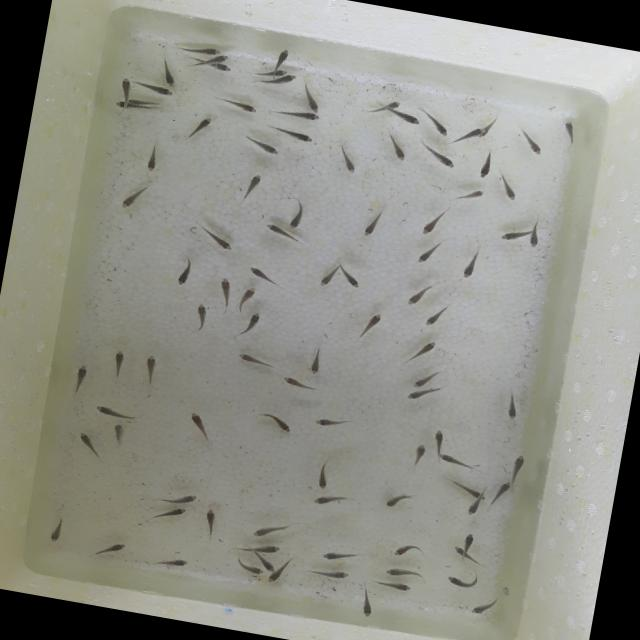fingerling: (180, 409, 220, 448), (415, 138, 460, 170), (376, 129, 414, 165), (315, 542, 367, 568), (262, 122, 318, 146), (114, 178, 150, 215), (91, 403, 150, 425), (402, 334, 438, 370), (89, 533, 132, 563), (456, 244, 488, 284), (195, 222, 237, 252), (417, 105, 455, 138), (233, 167, 266, 205), (144, 499, 186, 528), (170, 251, 200, 291), (308, 488, 358, 512), (238, 132, 284, 158), (74, 428, 109, 462), (418, 207, 454, 240), (251, 516, 293, 544), (354, 306, 384, 344), (304, 562, 352, 585), (382, 562, 432, 584), (232, 349, 279, 372), (413, 236, 445, 269), (402, 278, 435, 310), (438, 475, 482, 499), (332, 143, 362, 178), (436, 452, 483, 474), (138, 347, 162, 390), (443, 565, 481, 592), (514, 126, 546, 158), (274, 104, 325, 124), (154, 486, 200, 508), (148, 550, 194, 572), (253, 410, 295, 434), (45, 509, 72, 546), (66, 360, 92, 398), (381, 485, 416, 513), (486, 478, 513, 514), (449, 182, 486, 208), (498, 388, 524, 425), (196, 504, 222, 541), (494, 170, 524, 202), (420, 300, 450, 332), (274, 374, 322, 394), (106, 344, 130, 384), (358, 205, 386, 239), (214, 95, 259, 116), (368, 574, 415, 594), (242, 262, 281, 286), (210, 272, 236, 308), (185, 112, 214, 144), (188, 298, 212, 336), (473, 146, 498, 182), (297, 82, 325, 114), (240, 307, 266, 341), (310, 412, 350, 434), (452, 122, 487, 147), (285, 194, 308, 232), (105, 418, 134, 448), (156, 56, 182, 88), (233, 282, 259, 314), (468, 594, 500, 620), (310, 456, 334, 490), (132, 80, 174, 98), (140, 140, 162, 174), (304, 343, 326, 377), (389, 538, 422, 560), (356, 586, 378, 619), (558, 118, 579, 152), (506, 450, 528, 482), (408, 440, 430, 470), (390, 109, 422, 128), (232, 560, 264, 578), (497, 226, 525, 246), (315, 266, 338, 290), (526, 217, 542, 250), (339, 269, 364, 290), (260, 219, 288, 237), (186, 42, 221, 56), (116, 73, 134, 99), (430, 426, 448, 452), (461, 497, 482, 519), (272, 46, 291, 70), (403, 387, 429, 404), (258, 540, 284, 556), (462, 532, 480, 550), (264, 570, 282, 588), (258, 556, 278, 572), (408, 375, 426, 390), (386, 97, 404, 111), (214, 51, 232, 64), (282, 72, 298, 85), (215, 62, 232, 74), (112, 98, 126, 110), (451, 544, 465, 556), (275, 66, 289, 77)
